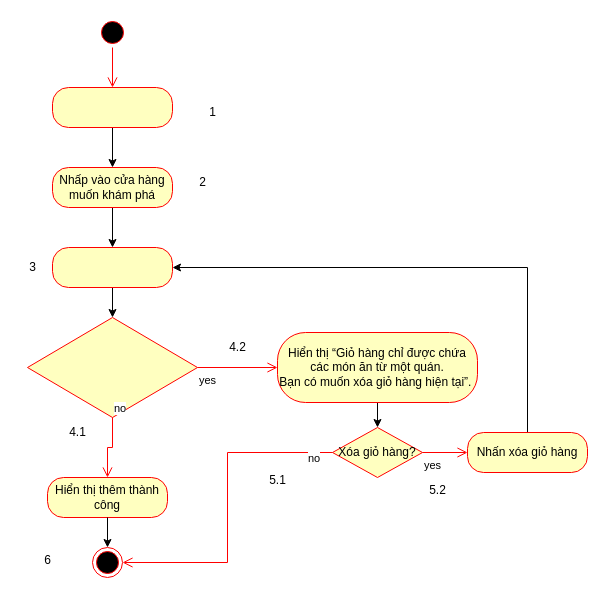
Image size: 605x595. Some labels were removed from this diagram. The centre of each missing label's shape, as x and y in pixels:
"Chọn món ăn muốn thêm vào giỏ hàng" goes at point 112,267.
"Giỏ hàng đã chứa món ăn từ quán khác?" goes at point 112,367.
"Thực hiện tìm kiếm quán ăn" goes at point 112,107.
